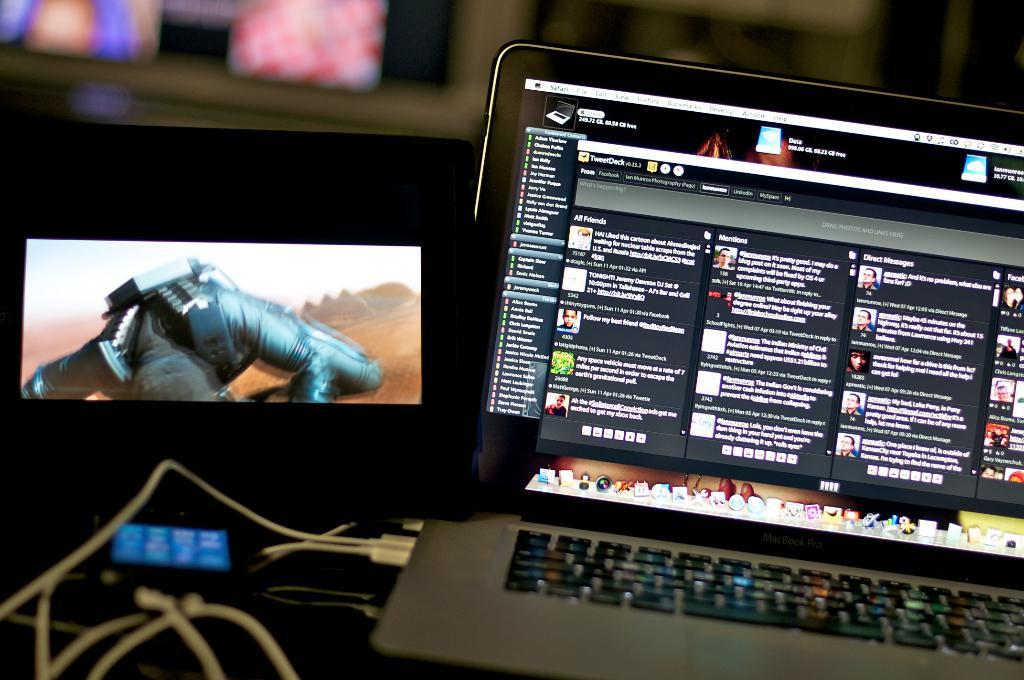Computer-keyboard: (501, 526, 1023, 665)
